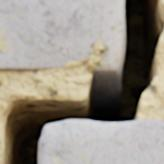brick: (0, 0, 122, 71), (39, 121, 163, 163)
crack: (1, 0, 163, 163)
